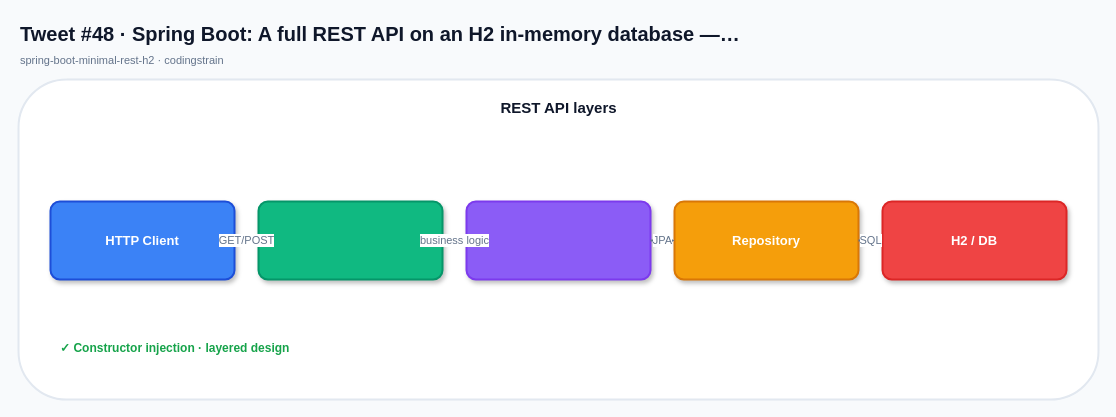
Some shapes in this 1116 by 417 pixel diagram are drawn without their labels. The centre of each missing label's shape, as x and y in pixels:
@RestController: (x=351, y=241)
Service: (x=559, y=241)
